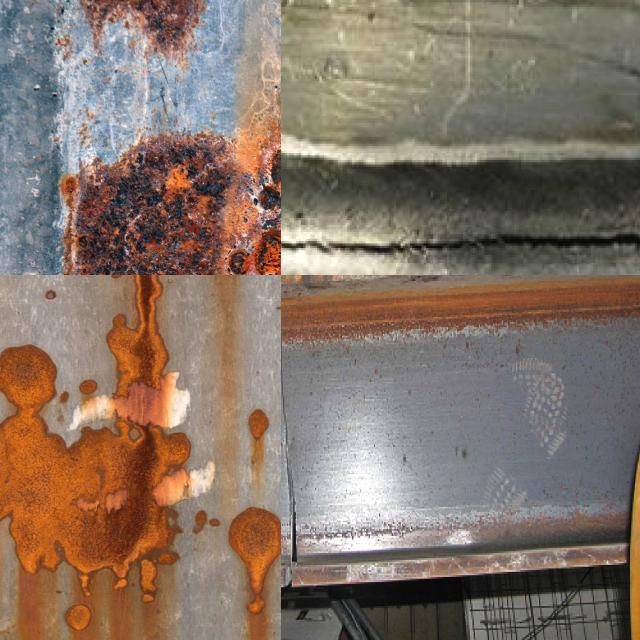Crack: (281, 232, 640, 253), (281, 338, 297, 586)
Pitting Corrosion: (61, 127, 281, 275), (80, 0, 205, 57)
Uniform Corrosion: (0, 345, 214, 590), (281, 276, 640, 336), (229, 507, 281, 613), (107, 314, 140, 394), (65, 604, 91, 631), (248, 409, 268, 439)
